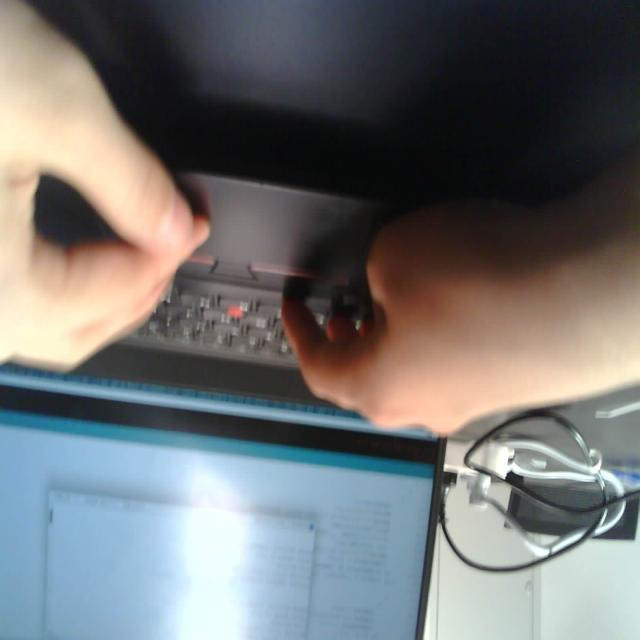keyboard-with-hands: (0, 137, 467, 405)
